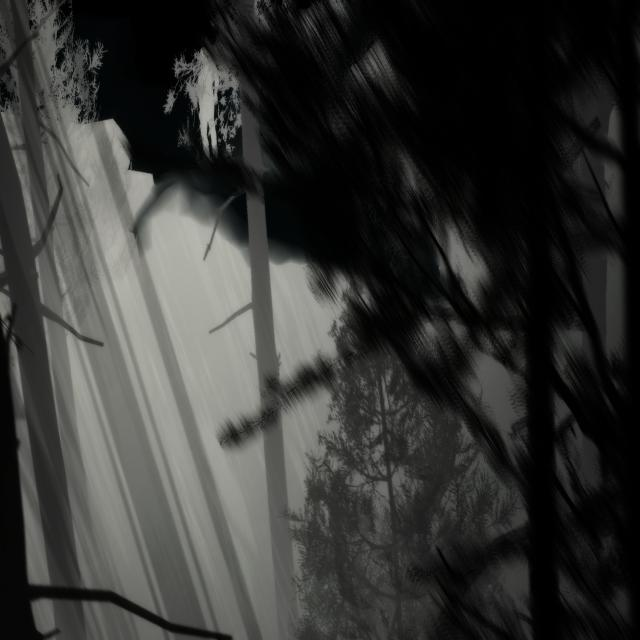Human: (188, 46, 222, 177)
